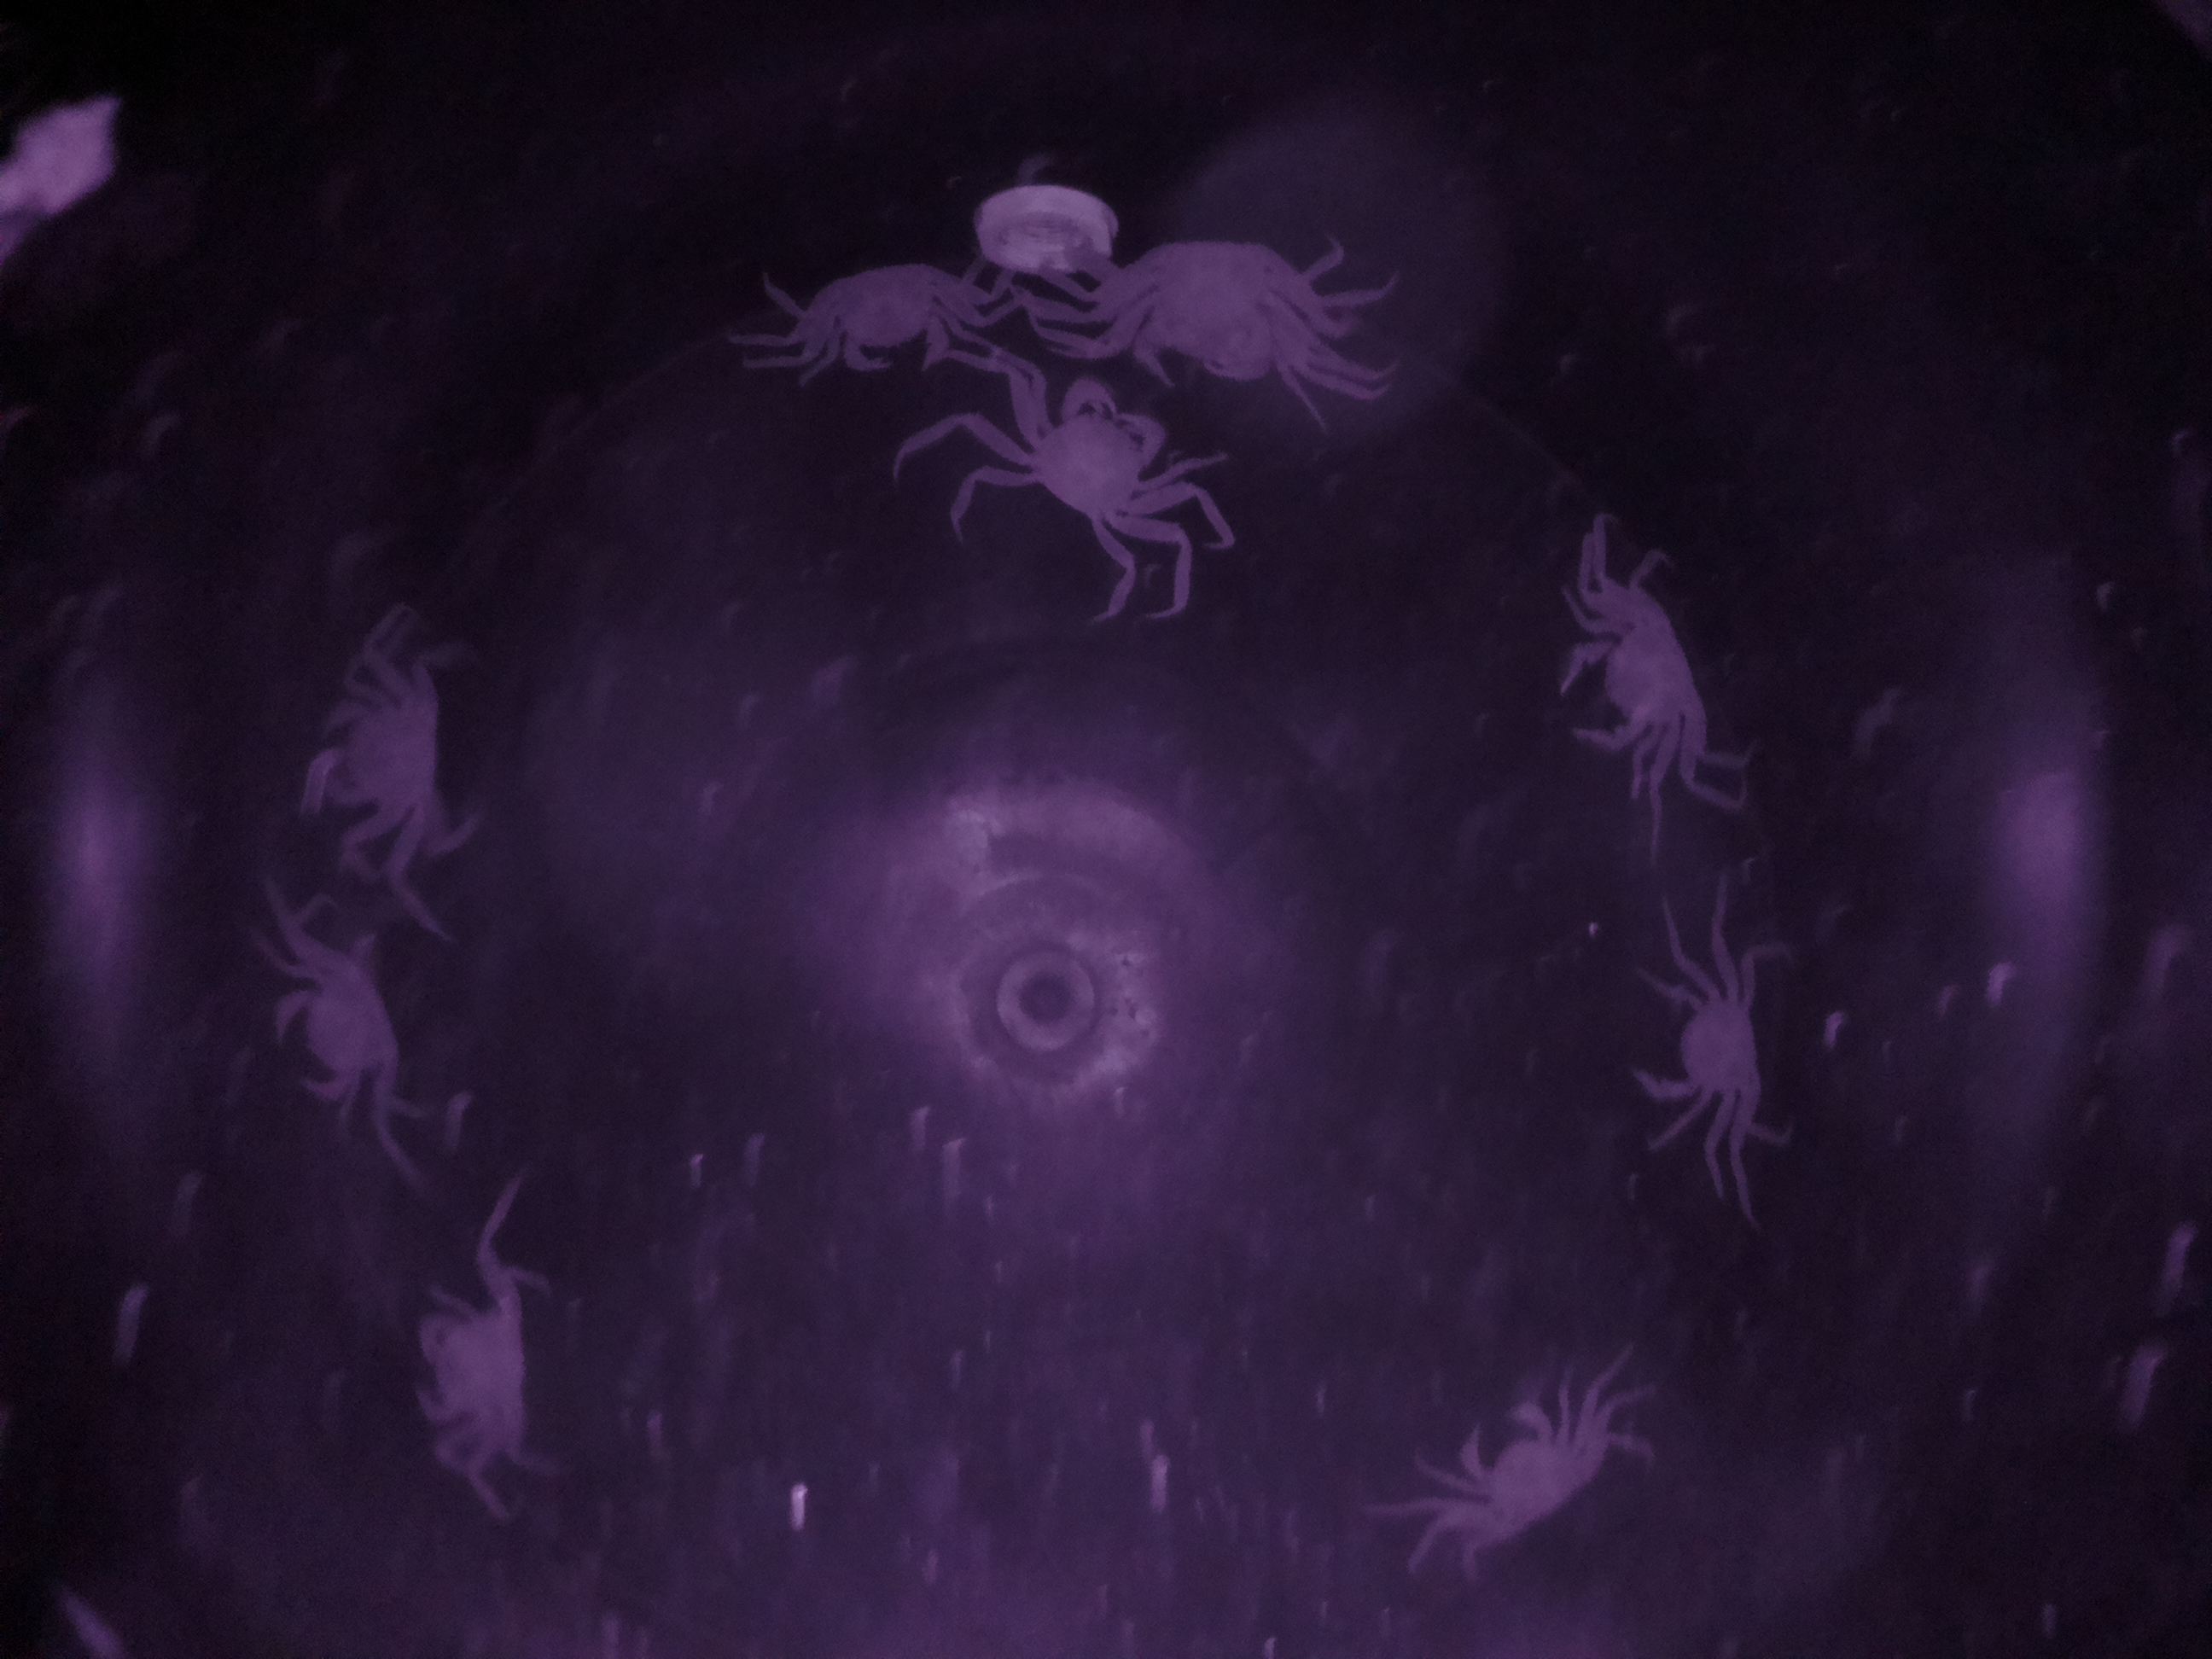Crab: (1550, 572, 1728, 788), (1604, 953, 1806, 1140), (996, 361, 1179, 552), (1411, 1382, 1613, 1542), (792, 251, 974, 390)
